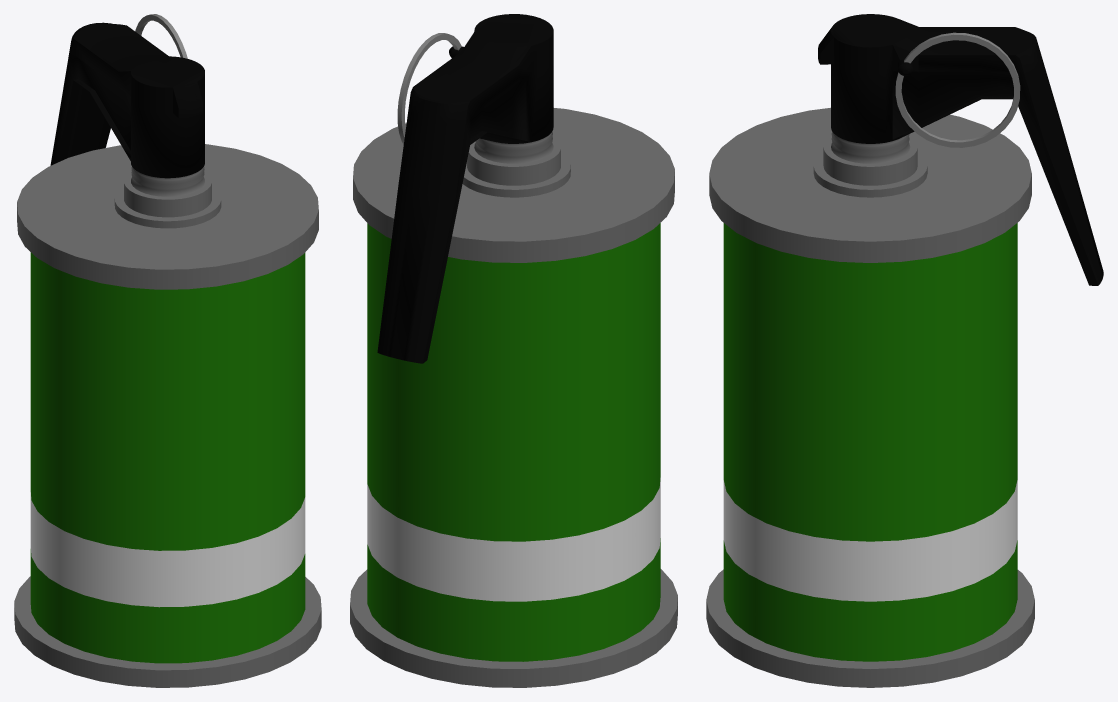
Rendered from Granada Humo.glb.
3 renders of one model, left to right at view 1: azimuth 30°, elevation 25°; view 2: azimuth 150°, elevation 25°; view 3: azimuth 270°, elevation 25°, orthographic. The views are drawn at different scales.
Parts seen in each view (by area): view 1: Granada, Aro; view 2: Granada, Aro; view 3: Granada, Aro.
Boxes of the visible parts, left/top/right/bottom form: Granada: left=14, top=22, right=321, bottom=687; Aro: left=135, top=14, right=187, bottom=58; Granada: left=350, top=14, right=677, bottom=687; Aro: left=397, top=33, right=461, bottom=144; Granada: left=706, top=14, right=1103, bottom=687; Aro: left=895, top=32, right=1020, bottom=147.
Size of the model in its own units: 2 by 4.05 by 2.42.
